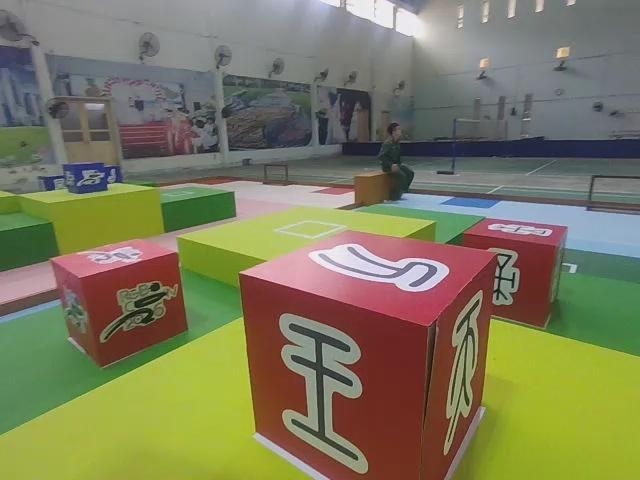R1: (49, 236, 190, 370)
R2 Fake: (235, 226, 502, 480)
R2 Real: (460, 214, 571, 331)
